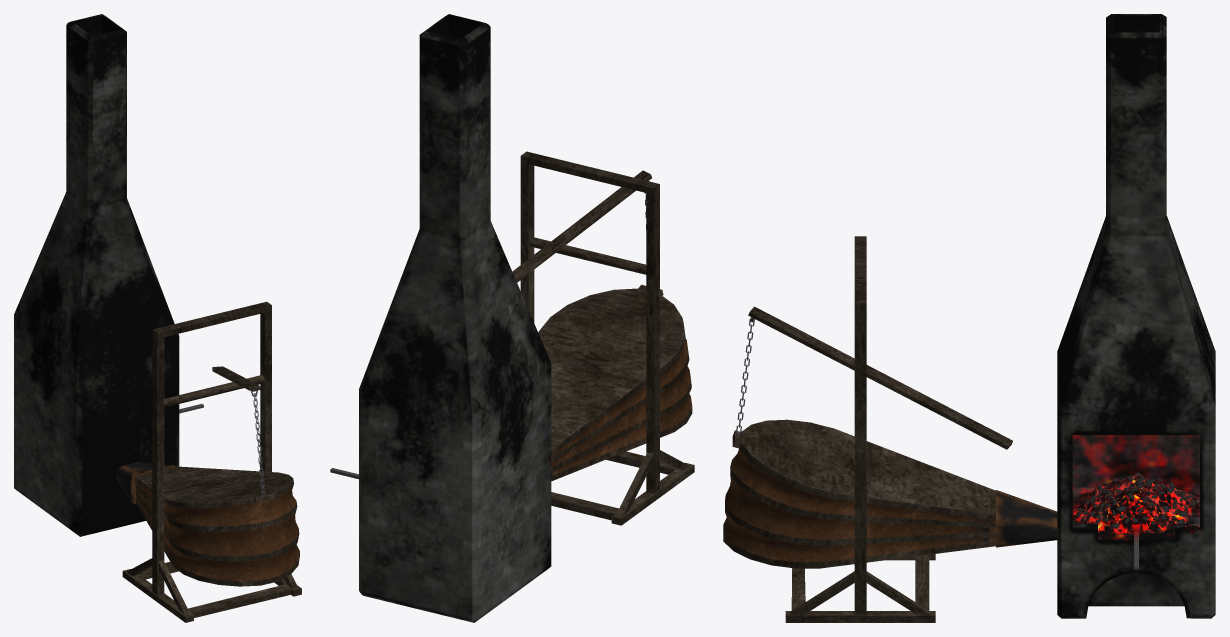
Rendered from forge_and_bellow.glb.
The picture shows the model from 3 angles, left to right: view 1: azimuth 30°, elevation 25°; view 2: azimuth 150°, elevation 25°; view 3: azimuth 270°, elevation 25°; orthographic projection. The views are drawn at different scales.
Visible parts, largest first — view 1: forge; view 2: forge; view 3: forge.
Boxes of the visible parts, bbox=[...] form: forge: bbox=[14, 14, 301, 622]; forge: bbox=[330, 14, 694, 622]; forge: bbox=[723, 14, 1215, 622].
Size of the model in its own units: 285 by 787 by 619.
Materials: 1 (1 with a texture image).
